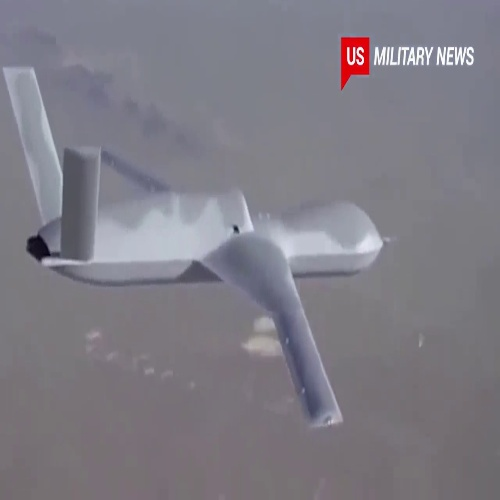uav616: (2, 63, 395, 422)
